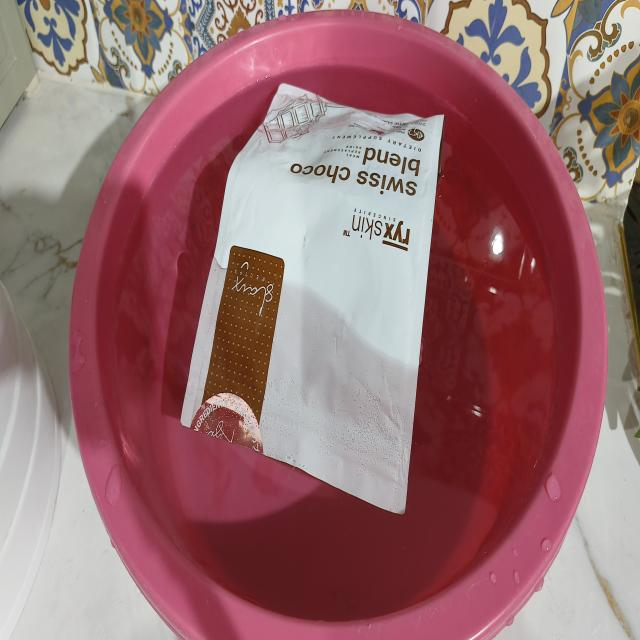Plastic Pouch: (181, 85, 444, 513)
